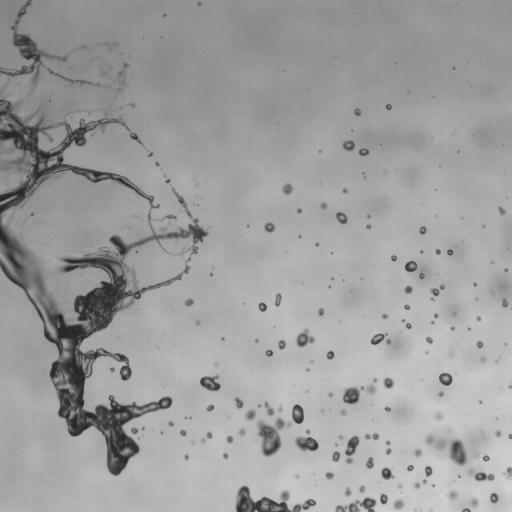droplet: (448, 438, 469, 466), (294, 428, 318, 451), (294, 328, 315, 348), (199, 373, 221, 391), (439, 372, 453, 386), (445, 488, 458, 501), (380, 467, 394, 479), (404, 260, 417, 272), (382, 376, 394, 389), (244, 408, 256, 421), (335, 212, 347, 224), (392, 498, 404, 510), (342, 140, 355, 151), (282, 182, 293, 195), (264, 222, 275, 233), (35, 81, 46, 92), (15, 107, 26, 118), (61, 151, 72, 162), (7, 179, 18, 190), (178, 217, 189, 228), (167, 221, 178, 232), (406, 271, 417, 282), (111, 311, 122, 322), (388, 313, 399, 324), (90, 330, 101, 341), (285, 336, 296, 347), (78, 340, 89, 351), (48, 349, 59, 360), (116, 394, 127, 405), (434, 399, 445, 410), (83, 401, 94, 412), (255, 408, 266, 419), (281, 410, 292, 421), (264, 415, 275, 426), (121, 422, 132, 433), (247, 422, 258, 433), (294, 423, 305, 434), (86, 424, 97, 435), (276, 427, 287, 438), (433, 429, 444, 440), (214, 431, 225, 442), (94, 432, 105, 443), (374, 439, 385, 450), (97, 441, 108, 452), (462, 442, 473, 453), (464, 457, 475, 468), (326, 460, 337, 471), (447, 460, 458, 471), (493, 466, 504, 477), (413, 467, 424, 478), (452, 480, 463, 491), (249, 490, 260, 501), (478, 493, 489, 504), (227, 494, 238, 505), (339, 495, 350, 506), (330, 450, 340, 462), (365, 456, 374, 469), (502, 466, 511, 479), (489, 492, 499, 503), (234, 397, 243, 409), (433, 411, 443, 421), (469, 497, 479, 507), (379, 493, 387, 505), (413, 447, 422, 457), (358, 148, 369, 156), (372, 503, 383, 511), (258, 302, 267, 311), (237, 427, 246, 436), (16, 25, 25, 34), (35, 41, 44, 50), (48, 59, 57, 68), (7, 94, 16, 103), (91, 111, 100, 120), (70, 120, 79, 129), (128, 174, 137, 183), (197, 219, 206, 228), (152, 221, 161, 230), (403, 293, 412, 302), (265, 298, 274, 307), (403, 311, 412, 320), (375, 380, 384, 389), (358, 390, 367, 399), (51, 399, 60, 408), (242, 402, 251, 411), (171, 424, 180, 433), (338, 442, 347, 451), (223, 443, 232, 452), (420, 443, 429, 452), (442, 444, 451, 453), (273, 449, 282, 458), (408, 455, 417, 464), (458, 463, 467, 472), (372, 464, 381, 473), (404, 481, 413, 490), (184, 298, 194, 306), (498, 206, 506, 215), (278, 340, 286, 349), (326, 350, 334, 359), (471, 450, 479, 459), (325, 471, 334, 479), (344, 486, 351, 496), (505, 204, 511, 215), (404, 285, 412, 293), (206, 404, 214, 412), (100, 68, 107, 77), (354, 108, 361, 116), (320, 201, 327, 209), (419, 226, 426, 234), (425, 336, 433, 343), (476, 340, 483, 348), (265, 349, 273, 356), (339, 408, 347, 415), (130, 427, 138, 434), (226, 435, 233, 443), (482, 454, 489, 462), (413, 481, 420, 489), (358, 485, 365, 493), (0, 73, 5, 84), (502, 298, 508, 307), (318, 307, 324, 316), (390, 254, 397, 261), (494, 430, 501, 437), (406, 464, 413, 471), (29, 33, 36, 40), (12, 45, 19, 52), (46, 47, 53, 54), (115, 62, 122, 69), (38, 66, 45, 73), (110, 70, 117, 77), (98, 76, 105, 83), (112, 81, 119, 88), (111, 101, 118, 108), (111, 111, 118, 118), (105, 122, 112, 129), (83, 131, 90, 138), (352, 145, 359, 152), (79, 161, 86, 168), (118, 169, 125, 176), (276, 187, 283, 194), (144, 188, 151, 195), (439, 249, 446, 256), (412, 269, 419, 276), (14, 285, 21, 292), (140, 291, 147, 298), (49, 342, 56, 349), (271, 345, 278, 352), (109, 346, 116, 353), (486, 356, 493, 363), (44, 364, 51, 371), (83, 377, 90, 384), (346, 381, 353, 388), (438, 383, 445, 390), (208, 389, 215, 396), (337, 389, 344, 396), (81, 392, 88, 399), (270, 402, 277, 409), (344, 402, 351, 409), (240, 406, 247, 413), (438, 406, 445, 413), (272, 411, 279, 418), (59, 417, 66, 424), (438, 419, 445, 426), (81, 428, 88, 435), (423, 428, 430, 435), (500, 431, 507, 438), (130, 433, 137, 440), (232, 433, 239, 440), (343, 434, 350, 441), (256, 435, 263, 442), (377, 436, 384, 443), (294, 446, 301, 453), (407, 448, 414, 455), (256, 450, 263, 457), (271, 451, 278, 458), (339, 452, 346, 459), (127, 456, 134, 463), (120, 467, 127, 474), (104, 470, 111, 477), (482, 478, 489, 485), (232, 485, 239, 492), (442, 486, 449, 493), (469, 491, 476, 498), (274, 496, 281, 503), (443, 496, 450, 503), (297, 497, 304, 504), (386, 497, 393, 504), (277, 404, 282, 413), (506, 477, 511, 486), (306, 506, 315, 511), (358, 506, 367, 511), (419, 272, 425, 279), (381, 313, 388, 319), (385, 338, 391, 345), (447, 351, 454, 357), (213, 361, 219, 368), (180, 429, 186, 436), (385, 448, 391, 455), (222, 452, 228, 459), (438, 391, 443, 399), (447, 249, 453, 255), (195, 319, 200, 326), (384, 406, 391, 411), (385, 104, 391, 109), (435, 248, 440, 254), (404, 304, 410, 309), (476, 315, 481, 321), (480, 357, 486, 362), (184, 454, 189, 460), (507, 299, 511, 306), (397, 507, 404, 511), (469, 507, 476, 511), (342, 188, 347, 193), (297, 208, 302, 213), (366, 213, 371, 218), (366, 224, 371, 229), (328, 392, 333, 397), (168, 421, 173, 426), (338, 434, 343, 439), (385, 440, 390, 445), (25, 5, 30, 10), (15, 7, 20, 12), (12, 14, 17, 19), (20, 14, 25, 19), (8, 29, 13, 34), (8, 35, 13, 40), (81, 48, 86, 53), (58, 52, 63, 57), (39, 55, 44, 60), (66, 56, 71, 61), (28, 57, 33, 62), (125, 58, 130, 63), (16, 65, 21, 70), (102, 65, 107, 70), (125, 66, 130, 71), (52, 67, 57, 72), (30, 70, 35, 75), (61, 71, 66, 76), (1, 73, 6, 78), (49, 73, 54, 78), (15, 74, 20, 79), (69, 74, 74, 79), (76, 74, 81, 79), (92, 78, 97, 83), (125, 78, 130, 83), (106, 79, 111, 84), (83, 83, 88, 88), (96, 86, 101, 91), (122, 86, 127, 91), (5, 96, 10, 101), (32, 105, 37, 110), (87, 105, 92, 110), (359, 112, 364, 117), (121, 115, 126, 120), (125, 121, 130, 126), (114, 122, 119, 127), (119, 125, 124, 130), (124, 130, 129, 135), (136, 132, 141, 137), (346, 135, 351, 140), (342, 136, 347, 141), (131, 138, 136, 143), (70, 140, 75, 145), (342, 148, 347, 153), (362, 154, 367, 159), (61, 159, 66, 164), (71, 161, 76, 166), (95, 166, 100, 171), (160, 176, 165, 181), (290, 182, 295, 187), (341, 183, 346, 188), (346, 186, 351, 191), (290, 189, 295, 194), (177, 190, 182, 195), (342, 192, 347, 197), (284, 193, 289, 198), (173, 196, 178, 201), (183, 197, 188, 202), (319, 197, 324, 202), (151, 200, 156, 205), (325, 200, 330, 205), (176, 202, 181, 207), (315, 202, 320, 207), (501, 204, 506, 209), (187, 206, 192, 211), (150, 207, 155, 212), (317, 207, 322, 212), (338, 207, 343, 212), (494, 208, 499, 213), (167, 209, 172, 214), (331, 210, 336, 215), (191, 213, 196, 218), (361, 213, 366, 218), (502, 213, 507, 218), (332, 216, 337, 221), (266, 217, 271, 222), (346, 217, 351, 222), (261, 219, 266, 224), (271, 219, 276, 224), (366, 219, 371, 224), (336, 221, 341, 226), (342, 222, 347, 227), (415, 224, 420, 229), (183, 225, 188, 230), (260, 227, 265, 232), (424, 230, 429, 235), (266, 231, 271, 236), (201, 235, 206, 240), (195, 240, 200, 245), (191, 253, 196, 258), (404, 257, 409, 262), (186, 260, 191, 265), (400, 262, 405, 267), (407, 270, 412, 275), (181, 272, 186, 277), (3, 276, 8, 281), (173, 279, 178, 284), (329, 280, 334, 285), (9, 281, 14, 286), (407, 281, 412, 286), (434, 283, 439, 288), (159, 284, 164, 289), (400, 284, 405, 289), (153, 287, 158, 292), (410, 289, 415, 294), (405, 292, 410, 297), (428, 292, 433, 297), (183, 294, 188, 299), (189, 294, 194, 299), (133, 298, 138, 303), (192, 298, 197, 303), (279, 299, 284, 304), (28, 303, 33, 308), (128, 304, 133, 309), (188, 304, 193, 309), (313, 308, 318, 313), (322, 309, 327, 314), (380, 309, 385, 314), (32, 310, 37, 315), (34, 313, 39, 318), (383, 317, 388, 322), (190, 318, 195, 323), (199, 319, 204, 324), (107, 322, 112, 327), (297, 328, 302, 333), (39, 331, 44, 336), (307, 331, 312, 336), (368, 333, 373, 338), (429, 333, 434, 338), (313, 337, 318, 342), (43, 338, 48, 343), (380, 339, 385, 344), (305, 341, 310, 346), (482, 342, 487, 347), (294, 344, 299, 349), (472, 344, 477, 349), (282, 346, 287, 351), (478, 347, 483, 352), (118, 349, 123, 354), (123, 351, 128, 356), (333, 351, 338, 356), (95, 356, 100, 361), (498, 358, 503, 363), (120, 360, 125, 365), (306, 362, 311, 367), (128, 363, 133, 368), (439, 368, 444, 373), (444, 368, 449, 373), (130, 370, 135, 375), (199, 372, 204, 377), (208, 372, 213, 377), (45, 374, 50, 379), (116, 374, 121, 379), (451, 375, 456, 380), (195, 376, 200, 381), (367, 378, 372, 383), (122, 379, 127, 384), (450, 379, 455, 384), (391, 383, 396, 388), (201, 386, 206, 391), (217, 387, 222, 392), (384, 387, 389, 392), (161, 392, 166, 397), (322, 392, 327, 397), (238, 395, 243, 400), (440, 395, 445, 400), (154, 396, 159, 401), (143, 399, 148, 404), (206, 400, 211, 405), (231, 400, 236, 405), (259, 400, 264, 405), (291, 400, 296, 405), (136, 401, 141, 406), (170, 401, 175, 406), (299, 402, 304, 407), (350, 402, 355, 407), (288, 403, 293, 408), (157, 408, 162, 413), (209, 409, 214, 414), (302, 410, 307, 415), (146, 411, 151, 416), (442, 413, 447, 418), (339, 414, 344, 419), (288, 416, 293, 421), (302, 416, 307, 421), (163, 421, 168, 426), (291, 421, 296, 426), (136, 425, 141, 430), (182, 425, 187, 430), (235, 425, 240, 430), (494, 425, 499, 430), (374, 428, 379, 433), (368, 430, 373, 435), (490, 431, 495, 436), (65, 432, 70, 437), (201, 432, 206, 437), (308, 432, 313, 437), (303, 433, 308, 438), (195, 436, 200, 441), (495, 436, 500, 441), (205, 437, 210, 442), (368, 437, 373, 442), (222, 438, 227, 443), (134, 439, 139, 444), (316, 439, 321, 444), (200, 442, 205, 447), (317, 442, 322, 447), (387, 443, 392, 448), (383, 444, 388, 449), (354, 445, 359, 450), (305, 448, 310, 453), (313, 448, 318, 453), (218, 450, 223, 455), (226, 450, 231, 455), (227, 453, 232, 458), (327, 453, 332, 458), (350, 453, 355, 458), (219, 456, 224, 461), (363, 456, 368, 461), (372, 458, 377, 463), (344, 462, 349, 467), (386, 463, 391, 468), (430, 464, 435, 469), (501, 466, 506, 471), (327, 467, 332, 472), (365, 467, 370, 472), (390, 469, 395, 474), (420, 469, 425, 474), (484, 470, 489, 475), (492, 471, 497, 476), (109, 473, 114, 478), (377, 473, 382, 478), (321, 474, 326, 479), (332, 474, 337, 479), (427, 474, 432, 479), (470, 476, 475, 481), (329, 477, 334, 482), (387, 477, 392, 482), (239, 481, 244, 486), (245, 482, 250, 487), (409, 484, 414, 489), (340, 487, 345, 492), (382, 489, 387, 494), (495, 490, 500, 495), (485, 492, 490, 497), (358, 496, 363, 501), (485, 497, 490, 502), (375, 498, 380, 503), (495, 500, 500, 505), (488, 501, 493, 506), (465, 503, 470, 508), (110, 366, 114, 372), (320, 408, 324, 414), (19, 0, 26, 3), (0, 169, 3, 176), (0, 187, 3, 194), (0, 269, 3, 276), (197, 1, 201, 6), (155, 161, 159, 166), (209, 272, 213, 277), (450, 326, 455, 330), (254, 338, 258, 343), (423, 350, 428, 354), (309, 359, 314, 363), (191, 439, 195, 444), (334, 442, 338, 447), (294, 474, 299, 478), (315, 242, 319, 246), (473, 282, 477, 286), (434, 313, 438, 317), (452, 312, 456, 316), (430, 320, 434, 324), (221, 336, 225, 340), (257, 404, 261, 408), (141, 426, 145, 430), (507, 434, 511, 438), (305, 368, 310, 371), (508, 267, 511, 272), (508, 428, 511, 433), (508, 462, 511, 467), (299, 508, 304, 511), (330, 508, 335, 511), (163, 13, 166, 17), (118, 106, 122, 109), (482, 224, 485, 228), (298, 234, 301, 238), (419, 250, 423, 253), (211, 265, 214, 269), (504, 268, 508, 271), (328, 285, 331, 289), (475, 297, 478, 301), (467, 327, 471, 330), (305, 389, 308, 393), (478, 400, 482, 403), (160, 430, 163, 434), (30, 0, 35, 2), (452, 66, 455, 69), (318, 150, 321, 153), (435, 214, 438, 217), (246, 224, 249, 227), (331, 277, 334, 280), (242, 302, 245, 305), (504, 342, 507, 345), (453, 372, 456, 375), (420, 378, 423, 381), (495, 417, 498, 420), (481, 431, 484, 434), (457, 475, 460, 478), (432, 484, 435, 487), (200, 3, 203, 6), (197, 5, 200, 8), (162, 10, 165, 13), (165, 14, 168, 17), (162, 16, 165, 19), (11, 22, 14, 25), (454, 64, 457, 67), (449, 65, 452, 68), (452, 69, 455, 72), (57, 76, 60, 79), (83, 77, 86, 80), (66, 80, 69, 83), (100, 81, 103, 84), (113, 90, 116, 93), (131, 100, 134, 103), (386, 100, 389, 103), (128, 105, 131, 108), (358, 106, 361, 109), (390, 107, 393, 110), (385, 108, 388, 111), (353, 114, 356, 117), (84, 120, 87, 123), (140, 139, 143, 142), (365, 146, 368, 149), (315, 148, 318, 151), (320, 148, 323, 151), (459, 150, 462, 153), (146, 151, 149, 154), (320, 151, 323, 154), (151, 154, 154, 157), (156, 159, 159, 162), (153, 164, 156, 167), (361, 168, 364, 171), (363, 172, 366, 175), (360, 174, 363, 177), (169, 180, 172, 183), (165, 182, 168, 185), (339, 188, 342, 191), (169, 189, 172, 192), (434, 190, 437, 193), (195, 200, 198, 203), (159, 203, 162, 206), (296, 205, 299, 208), (181, 207, 184, 210), (366, 211, 369, 214), (172, 212, 175, 215), (296, 212, 299, 215), (369, 212, 372, 215), (162, 213, 165, 216), (165, 217, 168, 220), (170, 217, 173, 220), (243, 223, 246, 226), (248, 223, 251, 226), (363, 223, 366, 226), (419, 223, 422, 226), (422, 223, 425, 226), (484, 223, 487, 226), (370, 224, 373, 227), (246, 227, 249, 230), (364, 227, 367, 230), (369, 227, 372, 230), (416, 230, 419, 233), (295, 233, 298, 236), (420, 233, 423, 236), (300, 235, 303, 238), (295, 236, 298, 239), (312, 242, 315, 245), (318, 243, 321, 246), (449, 246, 452, 249), (421, 247, 424, 250), (330, 248, 333, 251), (416, 249, 419, 252), (432, 250, 435, 253), (327, 251, 330, 254), (394, 252, 397, 255), (421, 252, 424, 255), (388, 253, 391, 256), (435, 253, 438, 256), (330, 254, 333, 257), (449, 254, 452, 257), (490, 257, 493, 260), (388, 258, 391, 261), (413, 258, 416, 261), (391, 260, 394, 263), (416, 263, 419, 266), (503, 265, 506, 268), (187, 268, 190, 271), (211, 270, 214, 273), (504, 271, 507, 274), (206, 272, 209, 275), (328, 275, 331, 278), (419, 278, 422, 281), (360, 279, 363, 282), (470, 282, 473, 285), (476, 282, 479, 285), (325, 283, 328, 286), (443, 283, 446, 286), (330, 284, 333, 287), (325, 286, 328, 289), (438, 288, 441, 291), (277, 290, 280, 293), (432, 295, 435, 298), (260, 299, 263, 302), (429, 299, 432, 302), (239, 300, 242, 303), (499, 300, 502, 303), (264, 301, 267, 304), (402, 302, 405, 305), (255, 304, 258, 307), (276, 305, 279, 308), (401, 306, 404, 309), (409, 306, 412, 309), (503, 306, 506, 309), (265, 307, 268, 310), (404, 308, 407, 311), (437, 314, 440, 317), (319, 315, 322, 318), (473, 316, 476, 319), (480, 316, 483, 319), (433, 317, 436, 320), (398, 318, 401, 321), (475, 319, 478, 322), (408, 320, 411, 323), (427, 320, 430, 323), (402, 321, 405, 324), (429, 323, 432, 326), (432, 323, 435, 326), (451, 323, 454, 326), (193, 324, 196, 327), (198, 324, 201, 327), (468, 324, 471, 327), (464, 327, 467, 330), (449, 329, 452, 332), (452, 329, 455, 332), (468, 329, 471, 332), (377, 330, 380, 333), (374, 331, 377, 334), (381, 331, 384, 334), (218, 335, 221, 338), (223, 335, 226, 338), (423, 335, 426, 338), (252, 336, 255, 339), (257, 337, 260, 340), (222, 339, 225, 342), (251, 339, 254, 342), (502, 339, 505, 342), (390, 340, 393, 343), (425, 341, 428, 344), (431, 341, 434, 344), (506, 341, 509, 344), (255, 342, 258, 345), (370, 343, 373, 346), (502, 344, 505, 347), (104, 347, 107, 350), (264, 347, 267, 350), (326, 348, 329, 351), (262, 351, 265, 354), (425, 353, 428, 356), (265, 355, 268, 358), (268, 355, 271, 358), (495, 355, 498, 358), (311, 356, 314, 359), (324, 356, 327, 359), (305, 371, 308, 374), (449, 372, 452, 375), (507, 382, 510, 385), (505, 385, 508, 388), (328, 389, 331, 392), (110, 392, 113, 395), (435, 392, 438, 395), (106, 393, 109, 396), (328, 396, 331, 399), (479, 397, 482, 400), (476, 402, 479, 405), (387, 404, 390, 407), (203, 407, 206, 410), (382, 409, 385, 412), (385, 410, 388, 413), (186, 414, 189, 417), (191, 416, 194, 419), (181, 417, 184, 420), (186, 417, 189, 420), (169, 418, 172, 421), (172, 420, 175, 423), (168, 425, 171, 428), (144, 426, 147, 429), (156, 430, 159, 433), (162, 431, 165, 434), (185, 432, 188, 435), (377, 432, 380, 435), (211, 433, 214, 436), (179, 434, 182, 437), (390, 450, 393, 453), (383, 451, 386, 454), (486, 452, 489, 455), (481, 453, 484, 456), (188, 455, 191, 458), (181, 456, 184, 459), (184, 459, 187, 462), (481, 459, 484, 462), (405, 463, 408, 466), (412, 463, 415, 466), (412, 467, 415, 470), (408, 470, 411, 473), (454, 474, 457, 477), (459, 476, 462, 479), (419, 481, 422, 484), (434, 484, 437, 487), (310, 496, 313, 499), (304, 497, 307, 500), (313, 498, 316, 501), (490, 261, 494, 263), (429, 509, 433, 511), (457, 150, 459, 153), (438, 165, 441, 167), (461, 216, 463, 219), (331, 251, 333, 254), (360, 277, 362, 280), (342, 278, 344, 281), (301, 281, 303, 284), (137, 436, 139, 439), (414, 508, 416, 511), (509, 387, 511, 390), (509, 438, 511, 441), (411, 509, 414, 511), (416, 509, 419, 511), (408, 91, 410, 93), (351, 129, 353, 131), (198, 0, 201, 1), (196, 205, 198, 206), (273, 326, 275, 327), (419, 510, 421, 511), (454, 480, 455, 481)
ligament: (342, 377, 377, 404), (334, 496, 377, 511), (344, 435, 360, 464), (467, 467, 495, 481), (424, 434, 445, 450), (429, 284, 445, 301), (22, 209, 38, 225), (370, 332, 387, 345), (422, 464, 433, 484), (263, 400, 274, 416), (200, 431, 212, 443), (364, 432, 379, 440), (131, 212, 144, 221), (401, 319, 411, 329), (274, 293, 281, 307), (494, 356, 501, 364), (397, 483, 402, 493), (127, 103, 135, 107), (461, 508, 471, 511), (508, 380, 511, 389), (362, 172, 366, 178), (184, 416, 191, 419), (130, 199, 136, 202), (195, 183, 199, 187), (226, 416, 231, 419)
